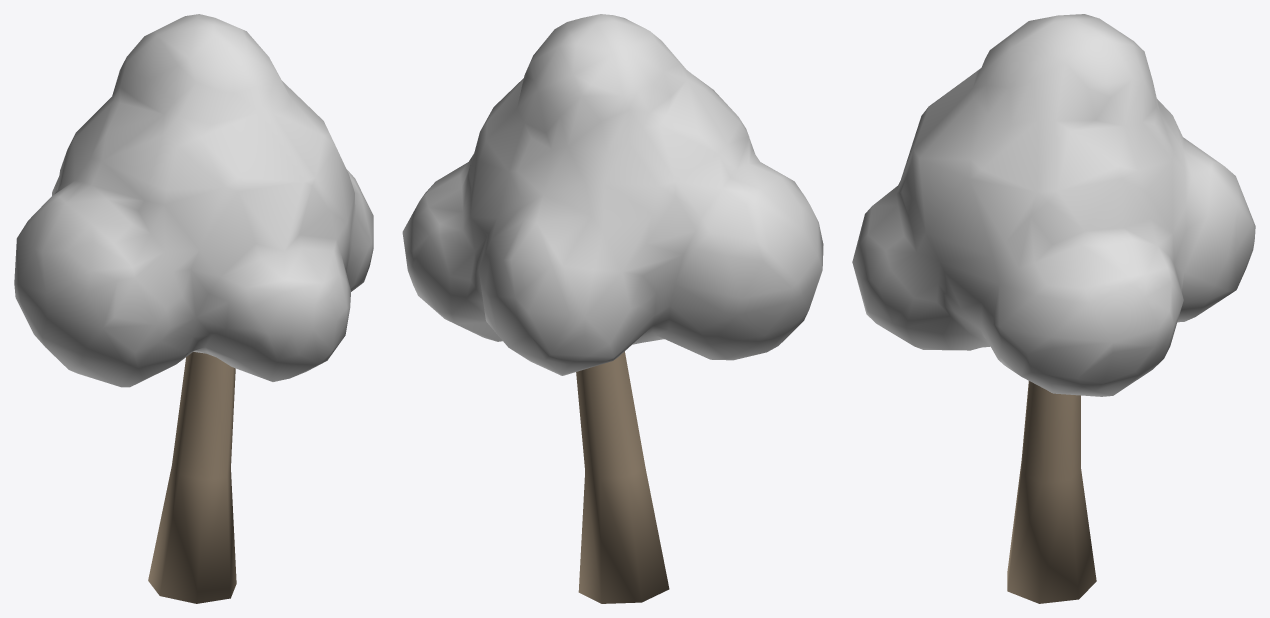
The model's file is tree.glb.
The picture shows the model from 3 angles, left to right: view 1: azimuth 30°, elevation 25°; view 2: azimuth 150°, elevation 25°; view 3: azimuth 270°, elevation 25°; orthographic projection. The views are drawn at different scales.
Visible parts, largest first — view 1: tree; view 2: tree; view 3: tree.
Boxes of the visible parts, x1,y1,x2,y2 form: tree: (14,14,373,603); tree: (402,14,823,603); tree: (852,14,1255,603).
Bounding box in the file's own units: 0.8156 × 1.21 × 0.7733.
